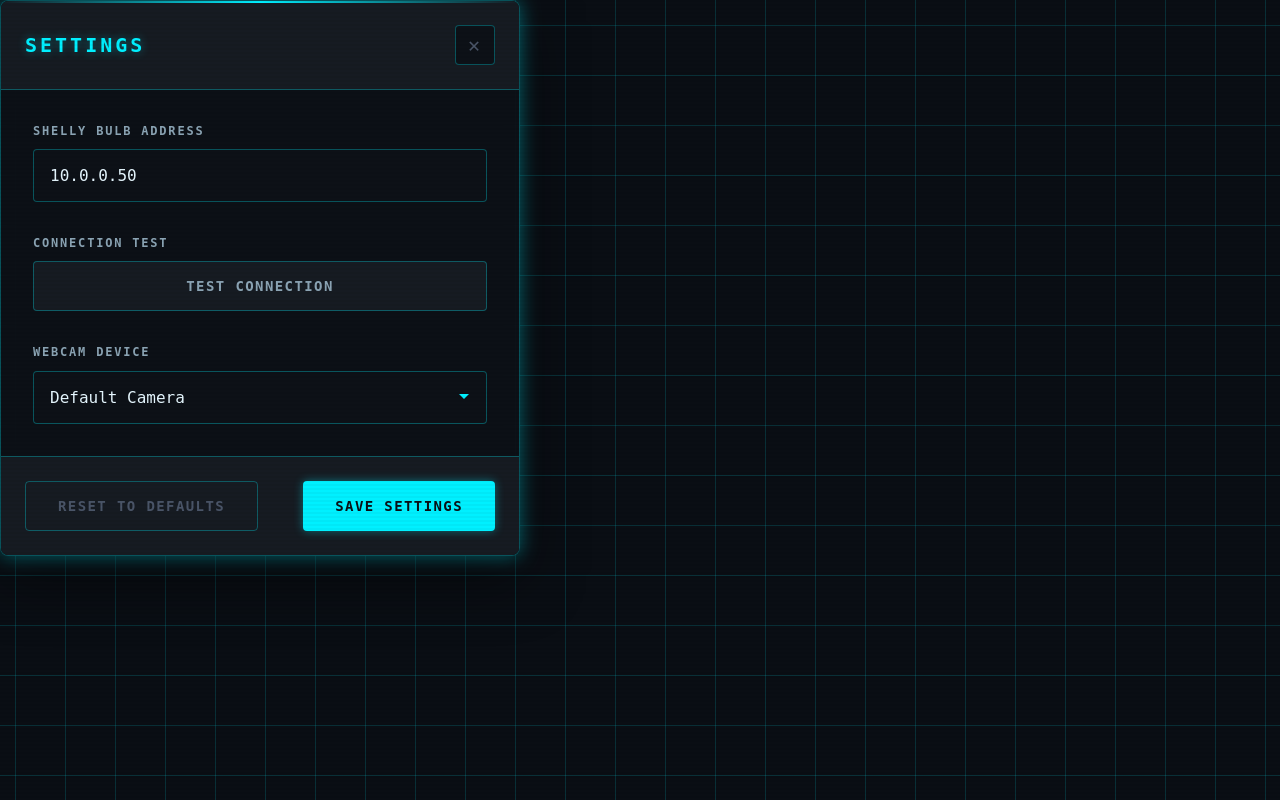
Test: SettingsPanel › Configuration Save/Load - Requirements: 8.1, 8.5 › should reset to defaults when reset button is clicked
Step 1. Click the button with test id "reset-button" → (142, 506), box [25,481,258,531]
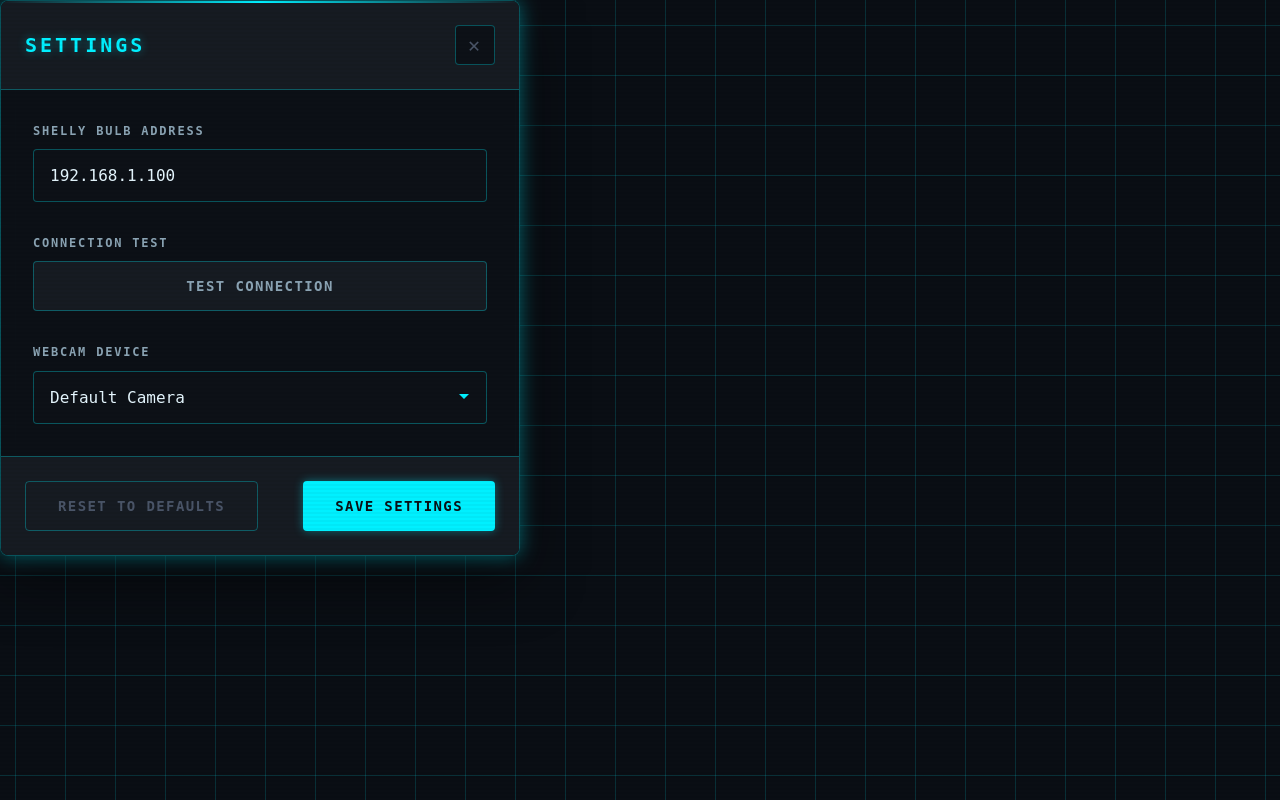
Now the field with test id "ip-address-input" holds "192.168.1.100", box [33,149,487,202]
